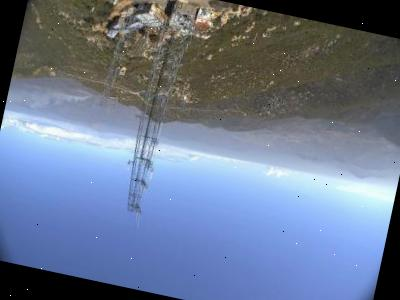smoke: (5, 80, 92, 121)
